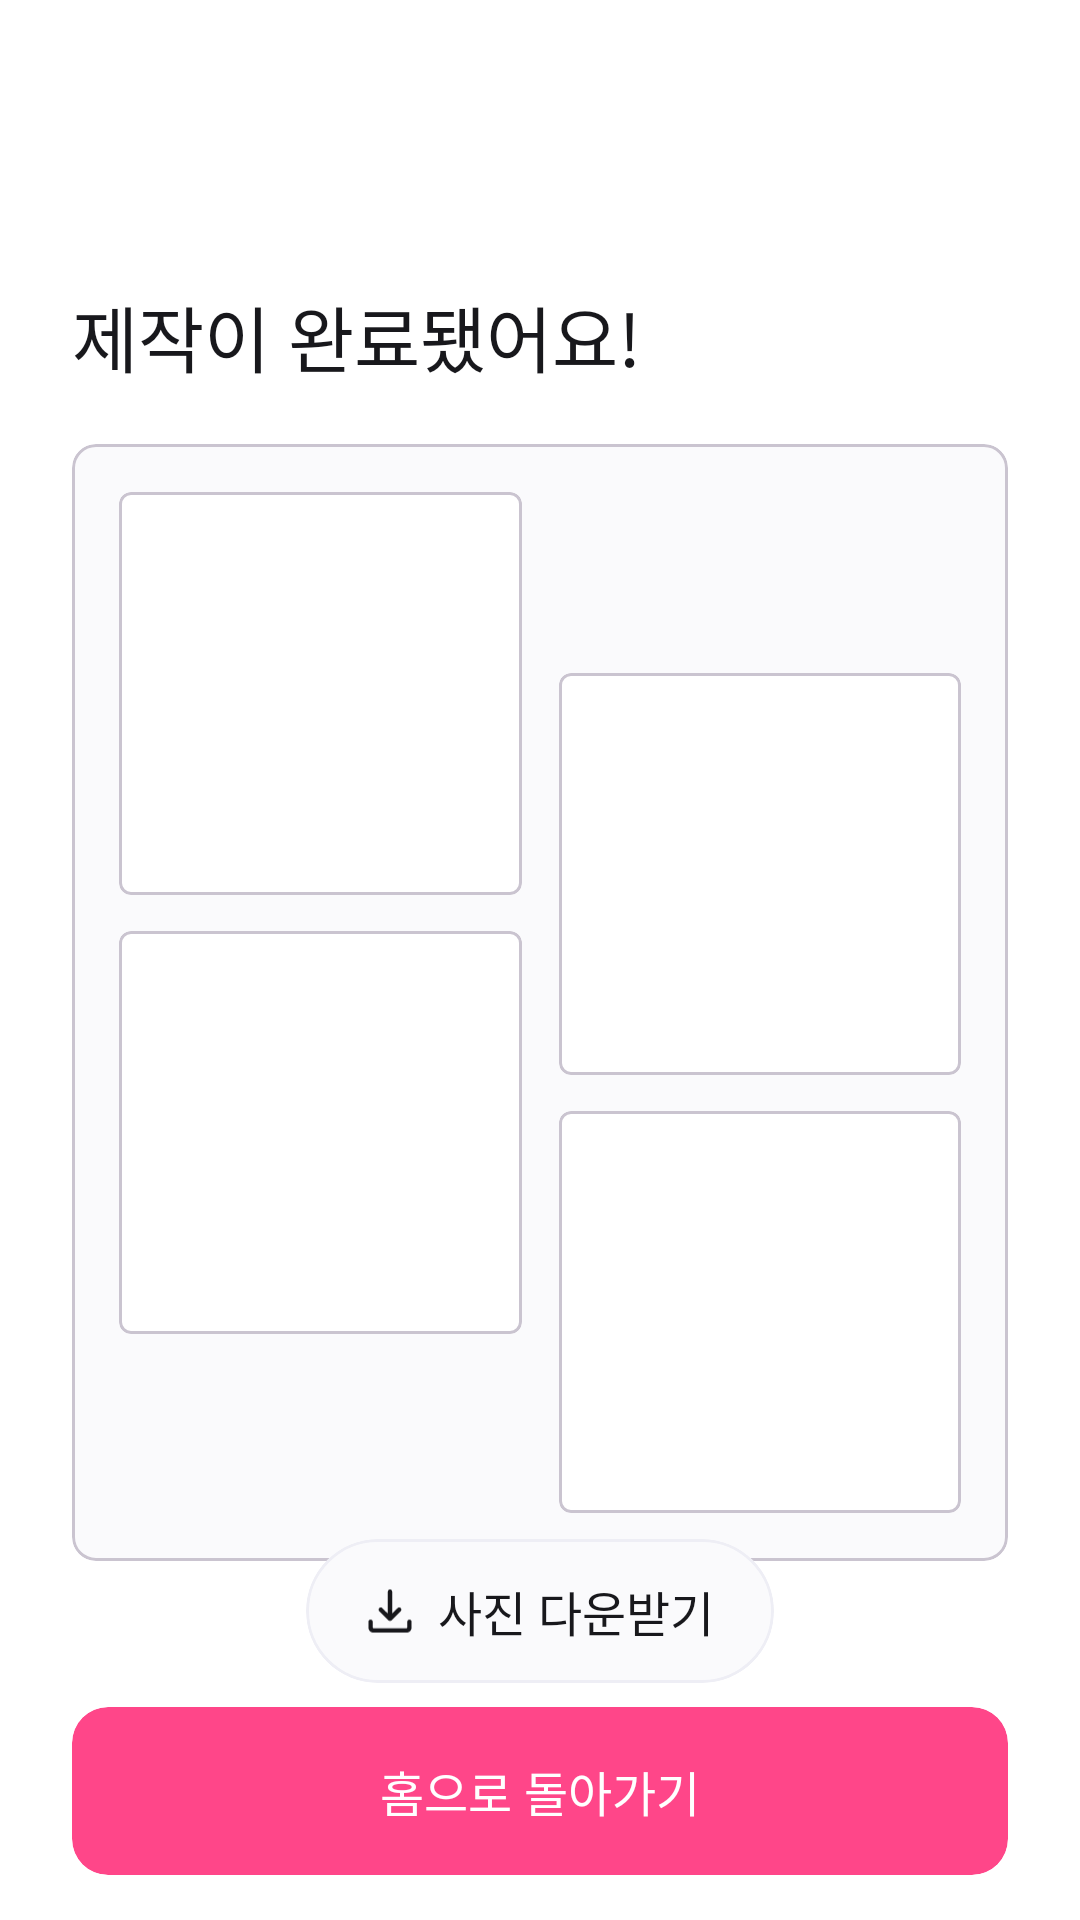

Icons on this 1080x1920 Android screen, each with its box as (x1, y1, x2, y2):
download: (368, 1589, 412, 1633)
